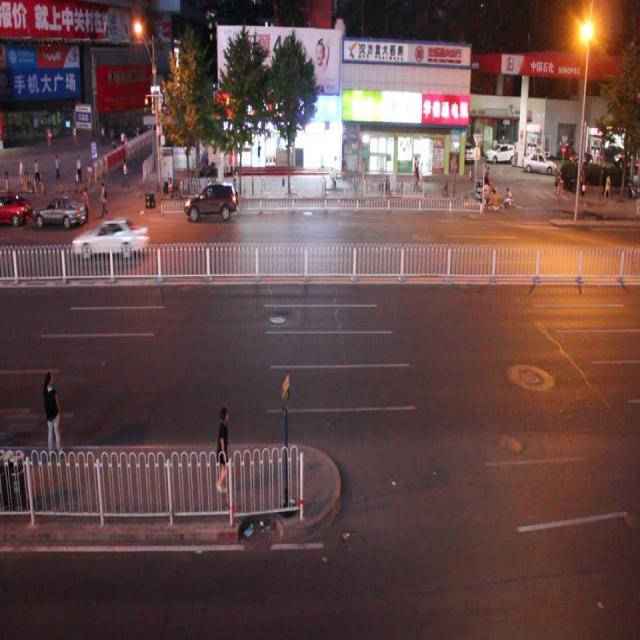car: (72, 218, 150, 260), (185, 172, 240, 222), (36, 190, 91, 228)
